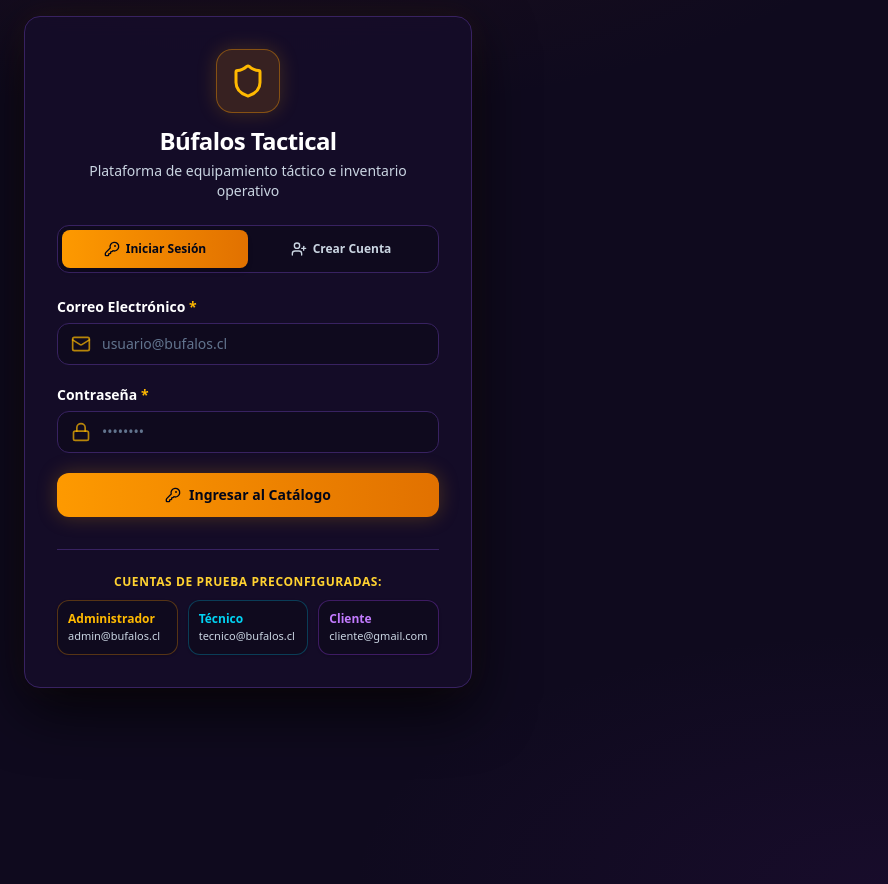
Test case: LoginPage Component › muestra mensaje de error si se envía el formulario con datos inválidos
Click the button "Ingresar al Catálogo" at [248, 495], box 57,473 -> 439,517
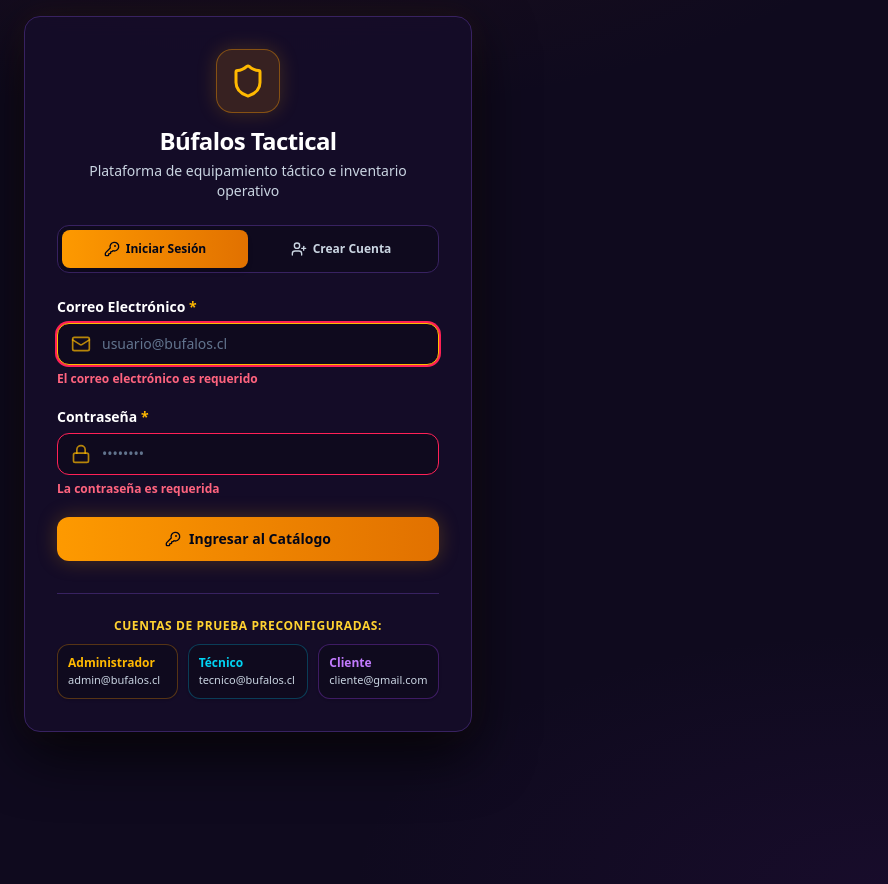
Check: the text "El correo electrónico es requerido" is shown, box 57,370 -> 258,387
